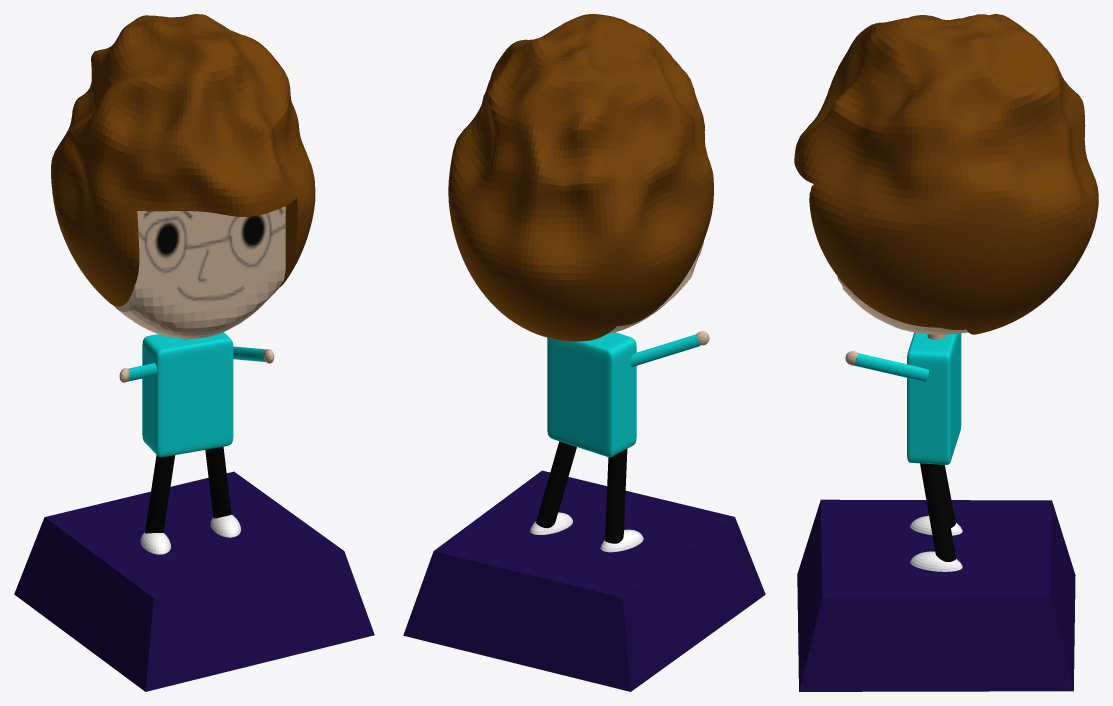
The model's file is bobble.glb.
The picture shows the model from 3 angles, left to right: view 1: azimuth 30°, elevation 25°; view 2: azimuth 150°, elevation 25°; view 3: azimuth 270°, elevation 25°; orthographic projection. The views are drawn at different scales.
Visible parts, largest first — view 1: Sphere.003; view 2: Sphere.003; view 3: Sphere.003.
Boxes of the visible parts, <box> form: Sphere.003: <box>14,14,374,691</box>; Sphere.003: <box>403,14,765,691</box>; Sphere.003: <box>794,14,1098,691</box>.
Bounding box in the file's own units: 4.48 × 10.89 × 4.91.
1 material, 1 textured.
